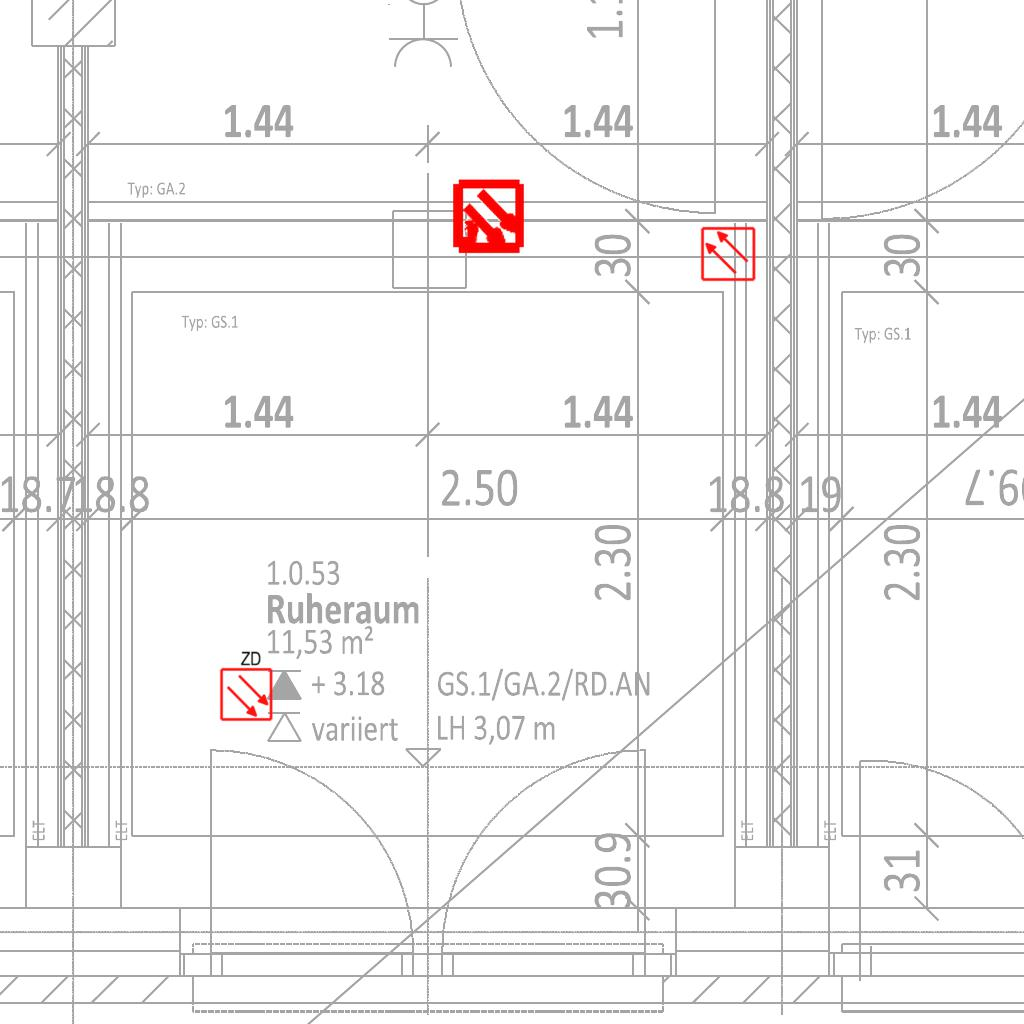OT_Multisensormelder_(Kombination_RMO_WMD): (432, 162, 545, 275)
RMO_Rauchmelder_optischer: (700, 226, 756, 282)
ZD_Melder_in_Zwischendecke_mit_Revisionsoeffnung_mind_40_x_40_cm: (217, 648, 274, 722)
